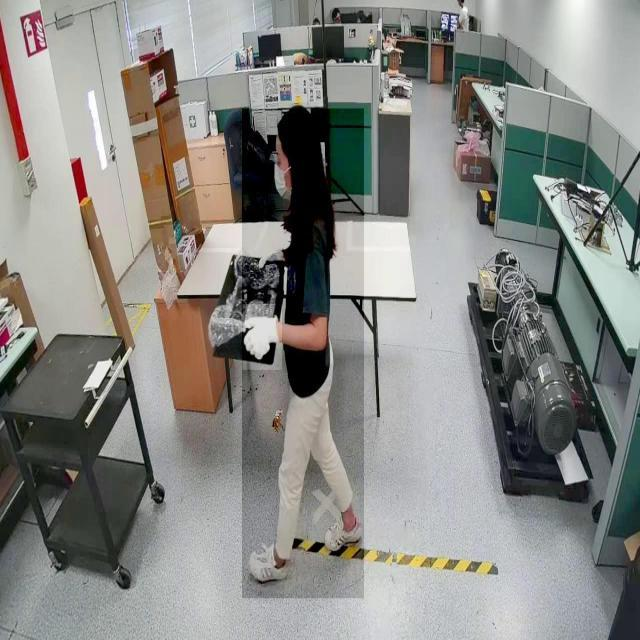boots: (324, 510, 364, 558), (247, 538, 289, 583)
gloves: (242, 304, 282, 370), (266, 144, 292, 211)
